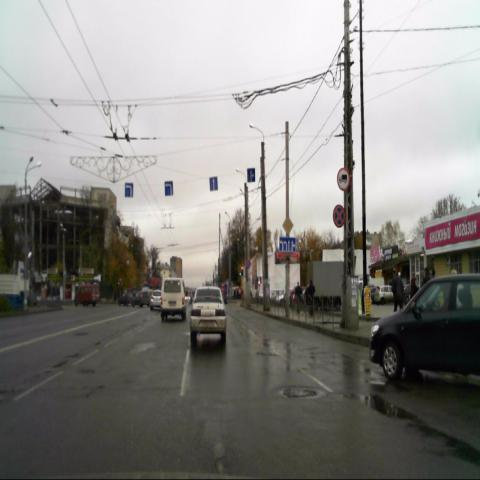3_4_1: (337, 167, 350, 191)
